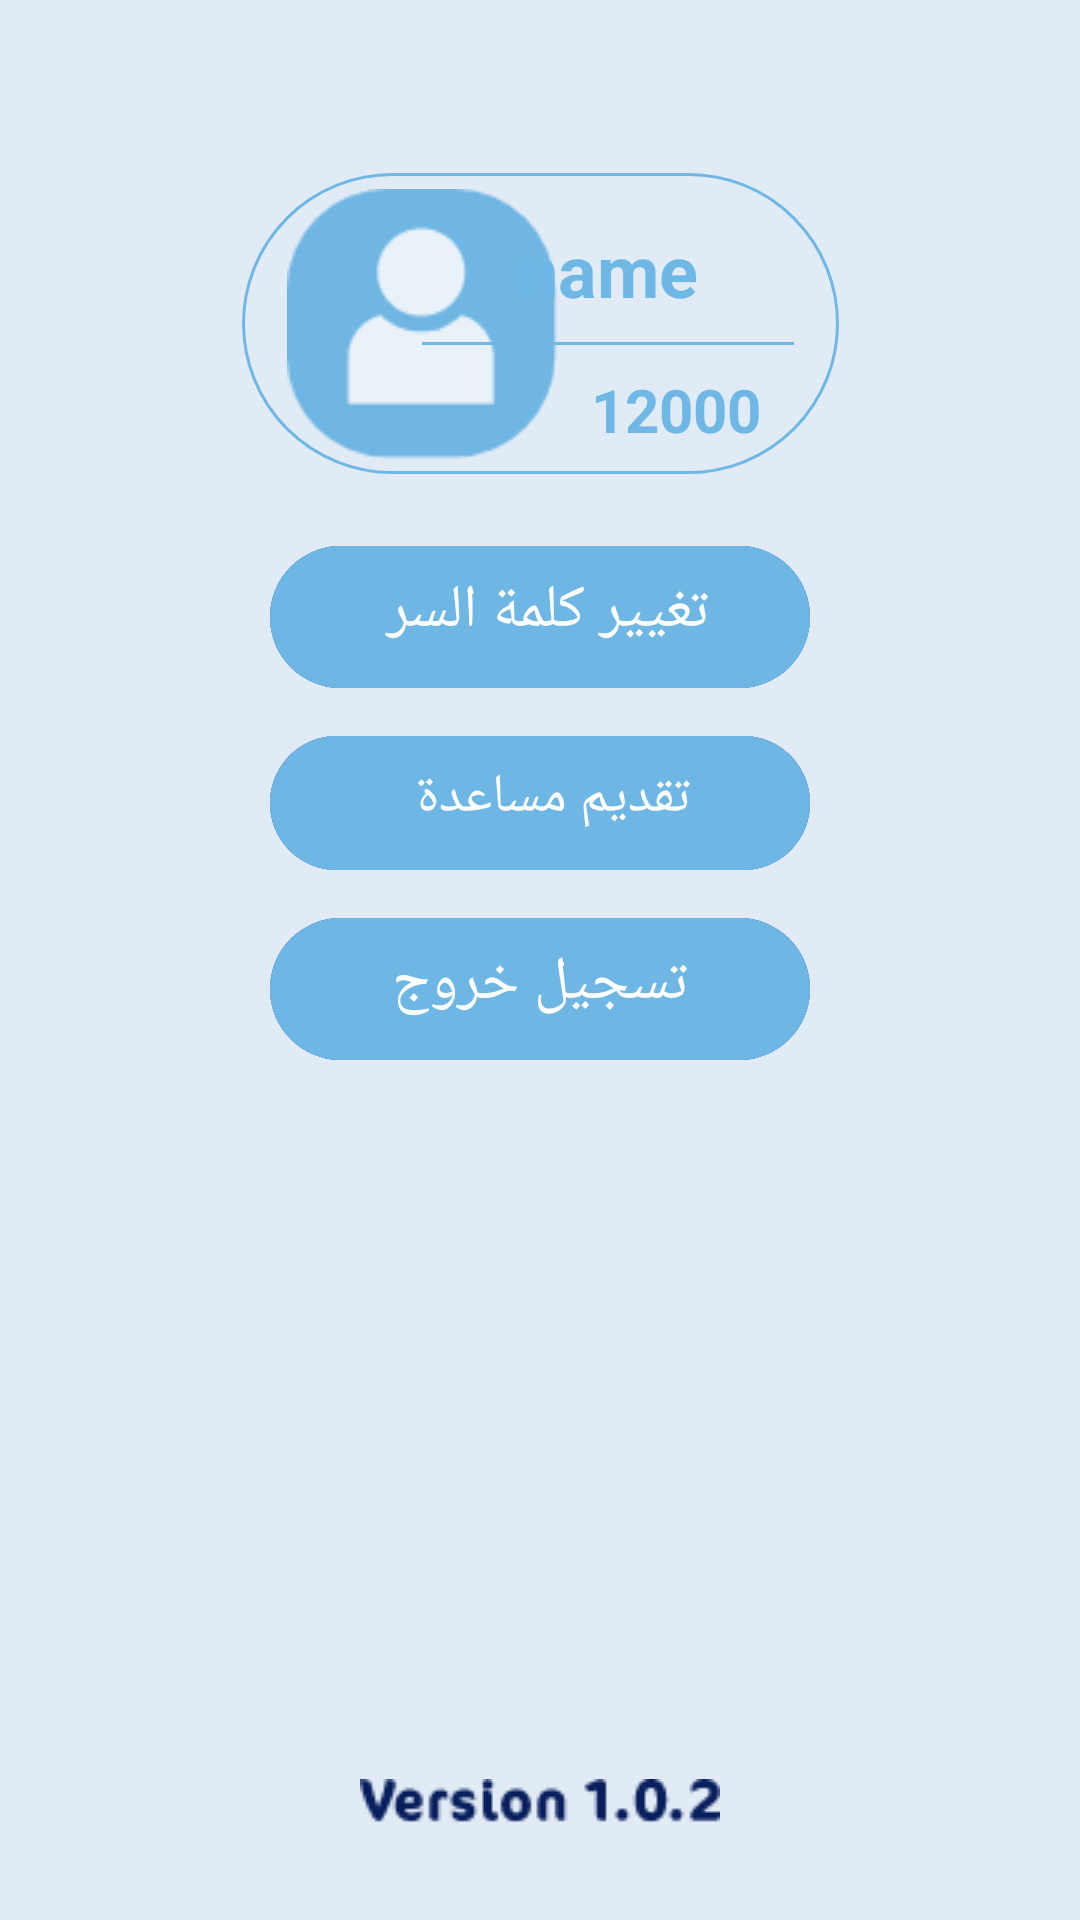

Screen size 1080×1920. Icon name, then its box in pixels as (x1, y1, x2, y2):
user: (287, 189, 557, 459)
